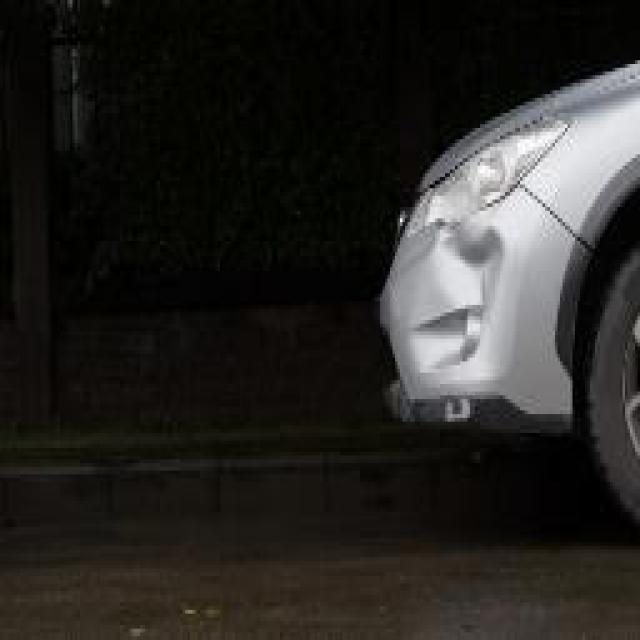Bumper: (385, 218, 598, 403)
